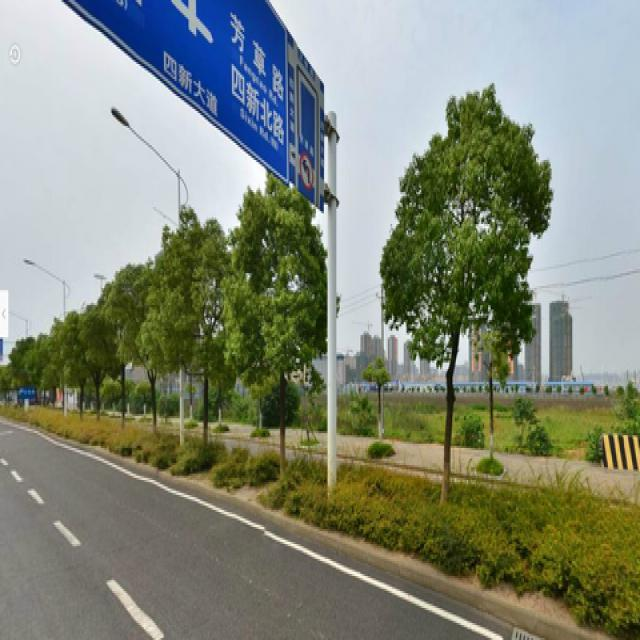cinn: (417, 115, 520, 512), (243, 177, 316, 474), (172, 222, 228, 439)
